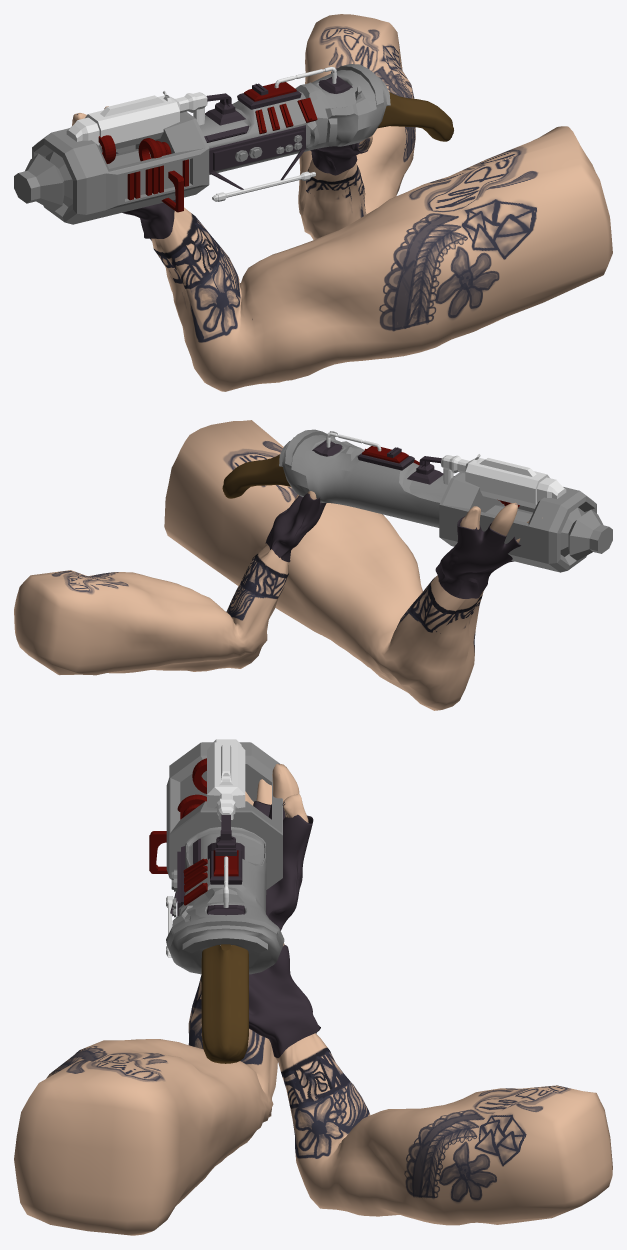
The model's file is WeaponArms.fbx.
3 renders of one model, top to bottom at view 1: azimuth 30°, elevation 25°; view 2: azimuth 150°, elevation 25°; view 3: azimuth 270°, elevation 25°, orthographic. The views are drawn at different scales.
Parts seen in each view (by area): view 1: Cube.003, Cube.013, Cube.011, Cube.024, Cube.019, Cube.016, Cube.001, Cube.005, Cube.015, Cube.006, Cylinder.005, Cube.012 (+4 smaller); view 2: Cube.003, Cube.013, Cube.024, Cube.011, Cube.006, Cube.019, Cube.015, Cube.001, Cube.018, Cube.020, Cube.021; view 3: Cube.013, Cube.003, Cube.024, Cube.011, Cube.001, Cube.006, Cube.015, Cube.019, Cube.012, Cylinder.005.
Boxes of the visible parts, x1,y1,x2,y2 form: Cube.003: (150,126,612,391); Cube.013: (298,14,415,239); Cube.011: (14,111,209,224); Cube.024: (199,64,390,174); Cube.019: (66,90,207,152); Cube.016: (209,125,305,189); Cube.001: (377,92,453,141); Cube.005: (127,159,188,212); Cube.015: (310,136,372,175); Cube.006: (72,106,175,238); Cylinder.005: (98,135,171,163); Cube.012: (255,97,317,134); Cube.003: (164,420,483,710); Cube.013: (14,543,288,675); Cube.024: (279,429,447,527); Cube.011: (439,472,612,572); Cube.006: (435,502,529,598); Cube.019: (441,454,566,508); Cube.015: (265,491,326,562); Cube.001: (222,454,290,498); Cube.018: (407,456,443,484); Cube.020: (357,453,414,470); Cube.021: (362,446,408,463); Cube.013: (275,1033,612,1225); Cube.003: (14,975,277,1235); Cube.024: (166,827,284,974); Cube.011: (166,742,282,889); Cube.001: (201,944,248,1063); Cube.006: (245,763,313,930); Cube.015: (249,943,320,1057); Cube.019: (207,739,245,821); Cube.012: (183,858,207,905); Cylinder.005: (177,758,206,819).
Size of the model in its own units: 1138 by 624 by 956.
6 materials, 1 textured.
